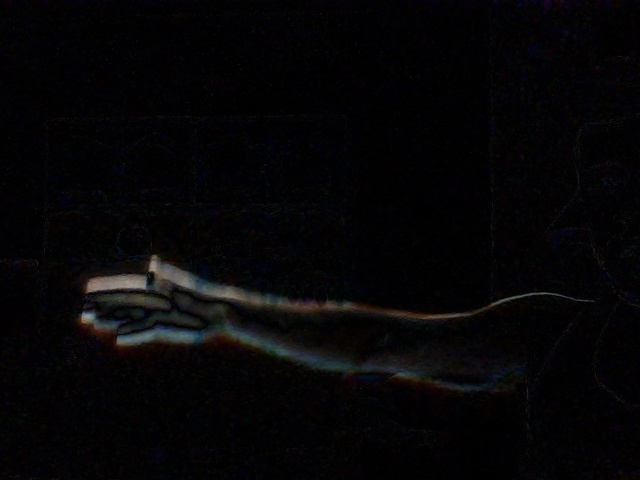hand_pa: (72, 249, 223, 355)
